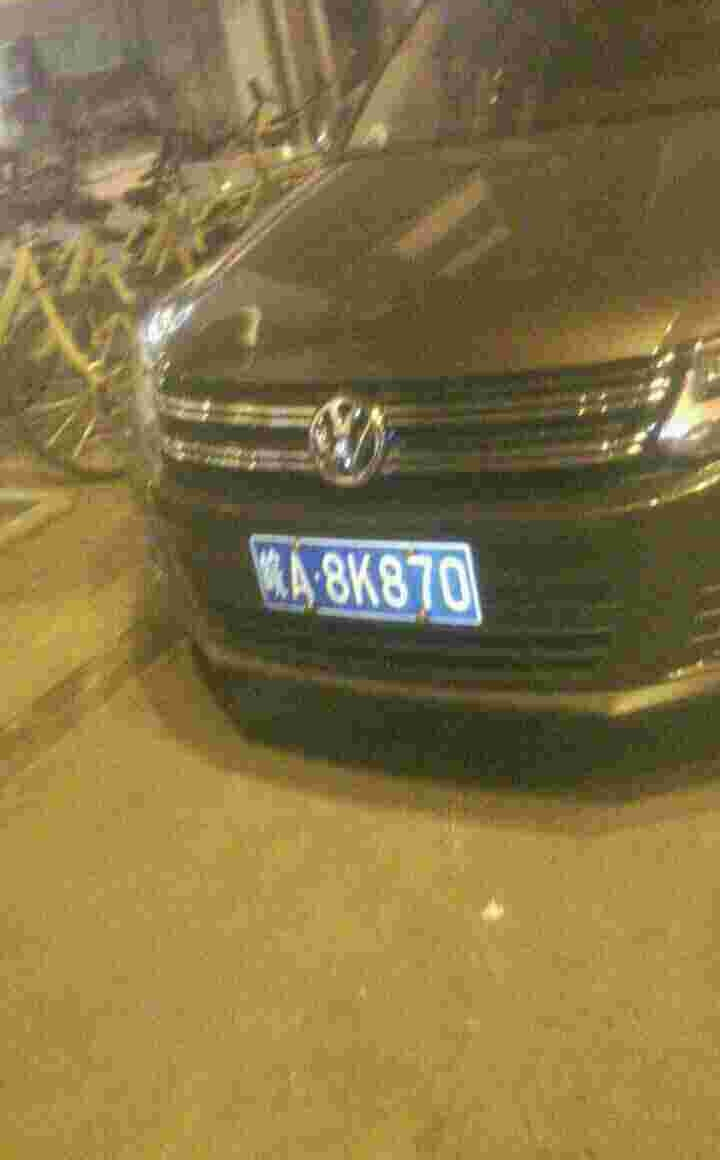license_plate: (244, 536, 468, 627)
